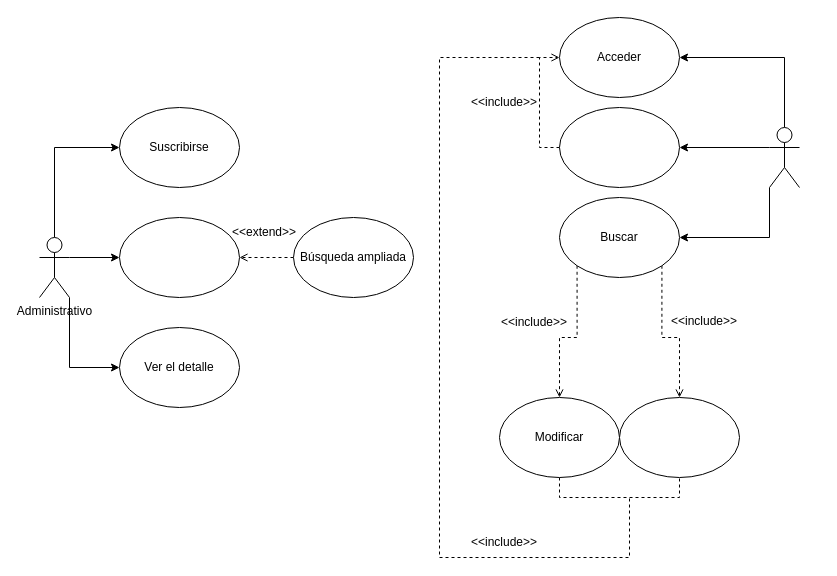
This 837x576 diagram has some shape labels left out. The centre of each missing label's shape, as x and y in pixels:
Borrar: (x=679, y=437)
Buscar circulares por fecha: (x=179, y=257)
Publicar: (x=619, y=147)
Responsable dpto.: (x=784, y=157)
